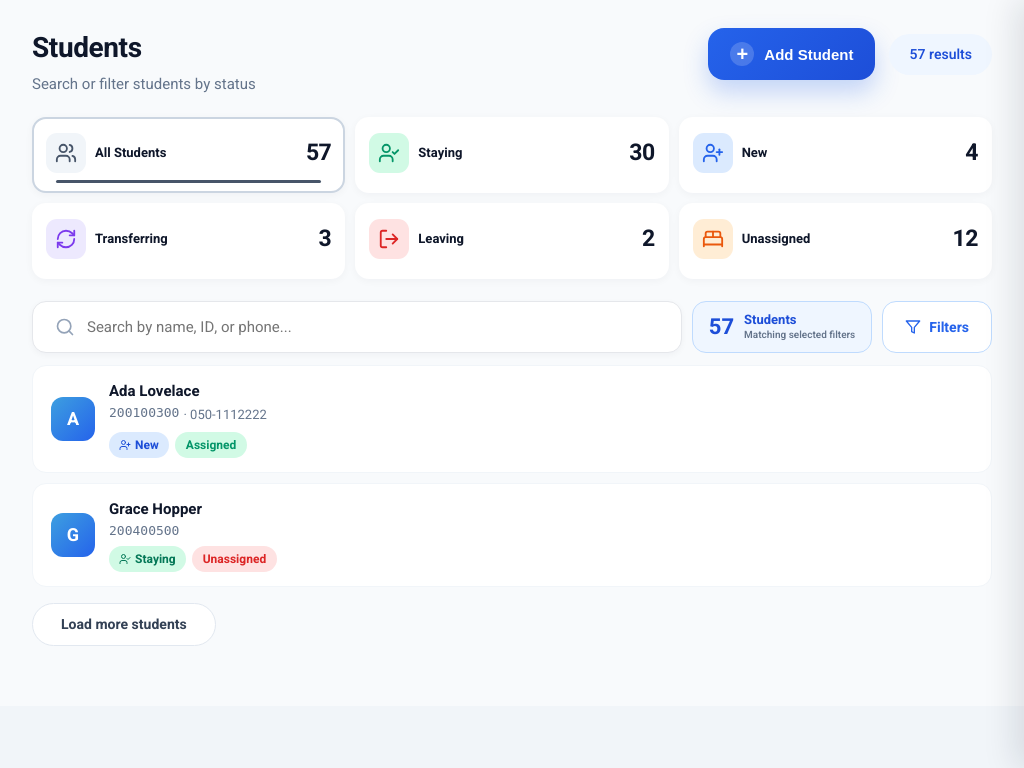
Scenario: StudentsPage pagination › appends the next page and keeps the rows already loaded
Check: the text "Ada Lovelace" is shown, box [109,380,200,402]
Click the button "Load more students": (124, 624) [32,603,216,646]
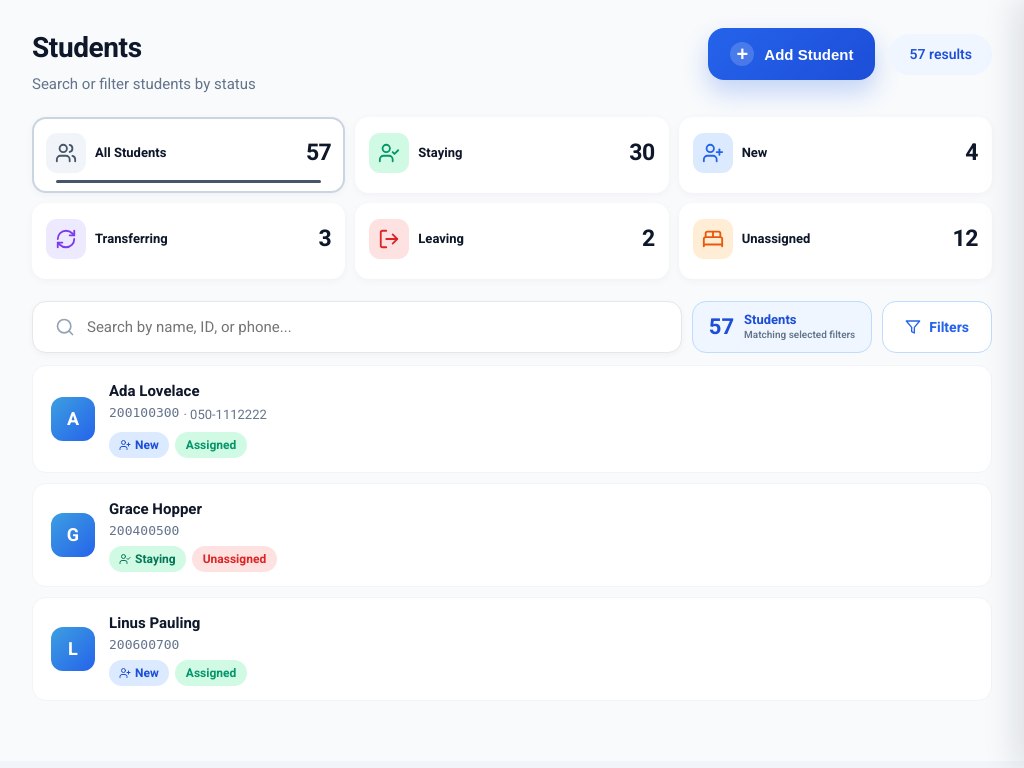
Check: the text "Ada Lovelace" is shown, box [109,380,200,402]
Check: the text "Linus Pauling" is shown, box [109,612,200,634]
Check: the button "Load more students" is gone
